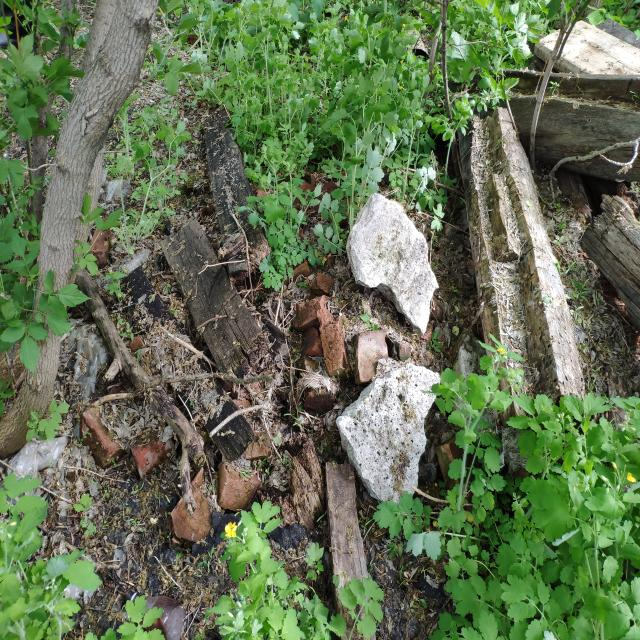entulho: (274, 254, 401, 395), (206, 393, 284, 513), (75, 401, 174, 488), (168, 468, 227, 548)
restos de madeira: (74, 274, 207, 469), (574, 189, 640, 340)
